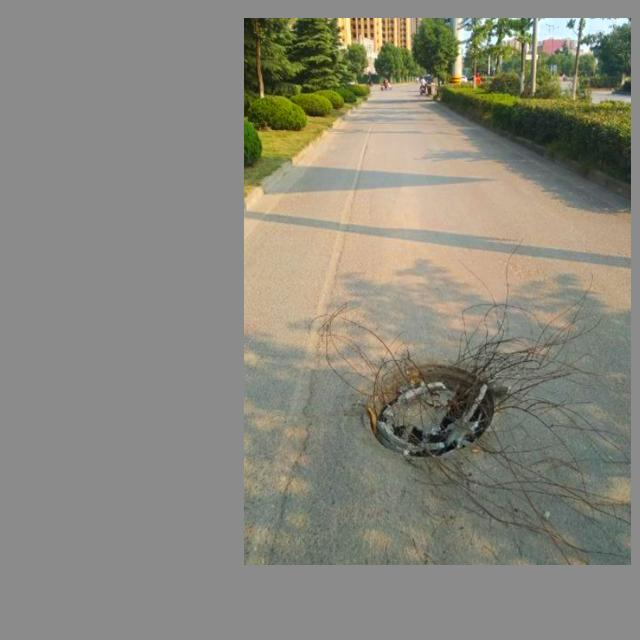broke: (361, 361, 499, 457)
